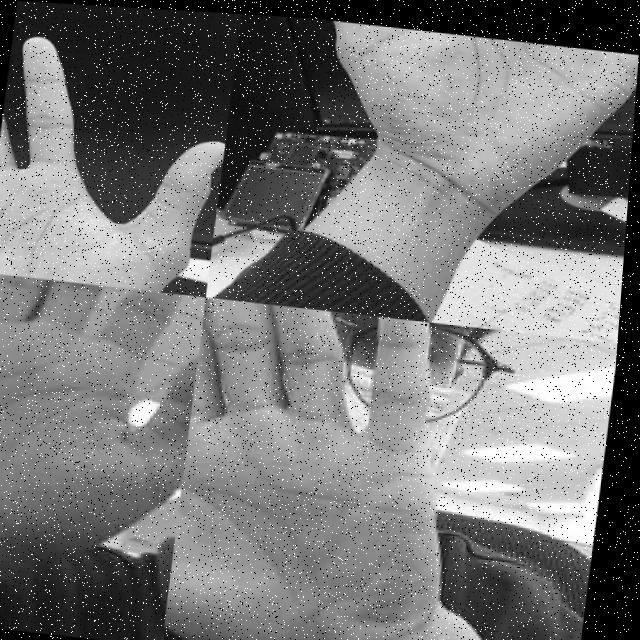hand: (170, 293, 477, 640), (259, 13, 640, 233), (0, 271, 209, 589), (0, 31, 237, 294)
